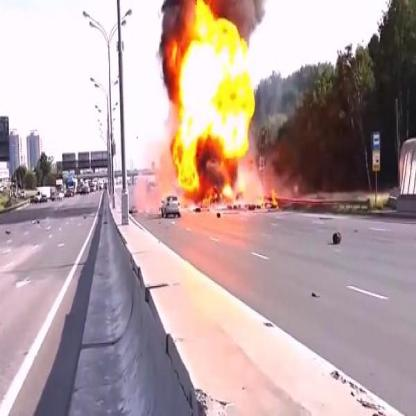fire: (171, 1, 257, 212), (265, 184, 280, 207)
